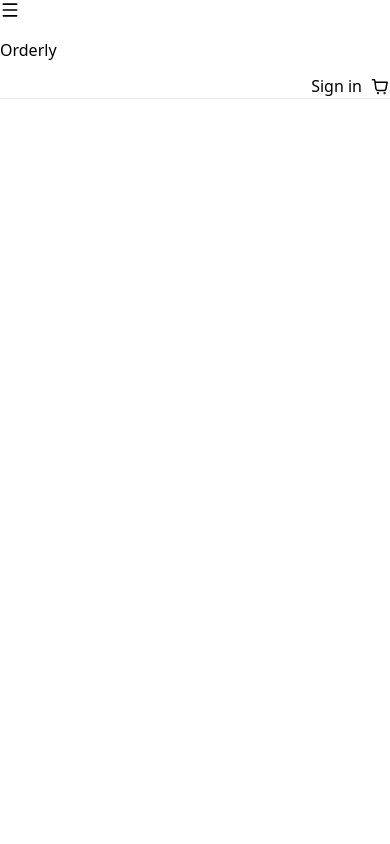
Test: exposes customer ARIA state, isolated links and current destination
The width and height of the screenshot is (390, 844).
Click the button named "Open customer navigation" at (10, 10), box left=0, top=0, right=20, bottom=20
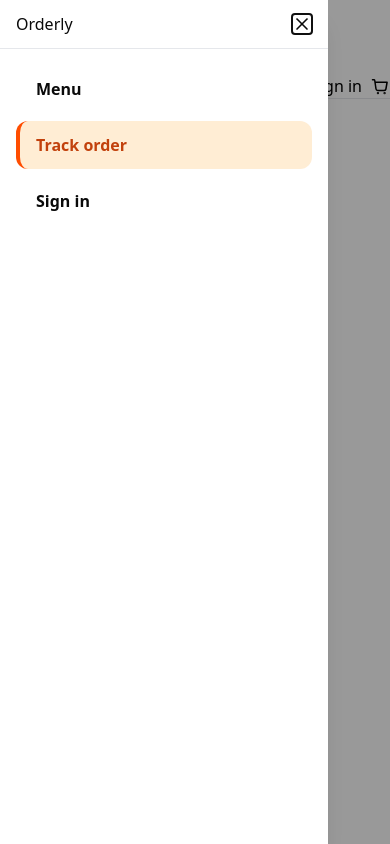
Result: the button named "Open customer navigation" is expanded at left=0, top=0, right=20, bottom=20
